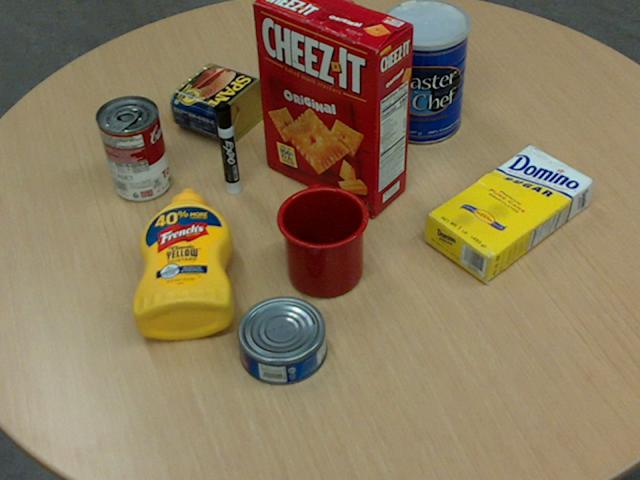cracker_box: (253, 0, 413, 214)
gelatin_box: (272, 45, 350, 108)
large_marker: (213, 101, 240, 195)
master_chef_can: (380, 0, 469, 145)
mug: (275, 185, 368, 297)
mustard_bottle: (131, 188, 233, 338)
potted_meat_can: (170, 63, 271, 145)
sugar_box: (424, 145, 594, 283)
tomato_soup_can: (95, 93, 169, 199)
tuna_fish_can: (236, 296, 327, 384)
